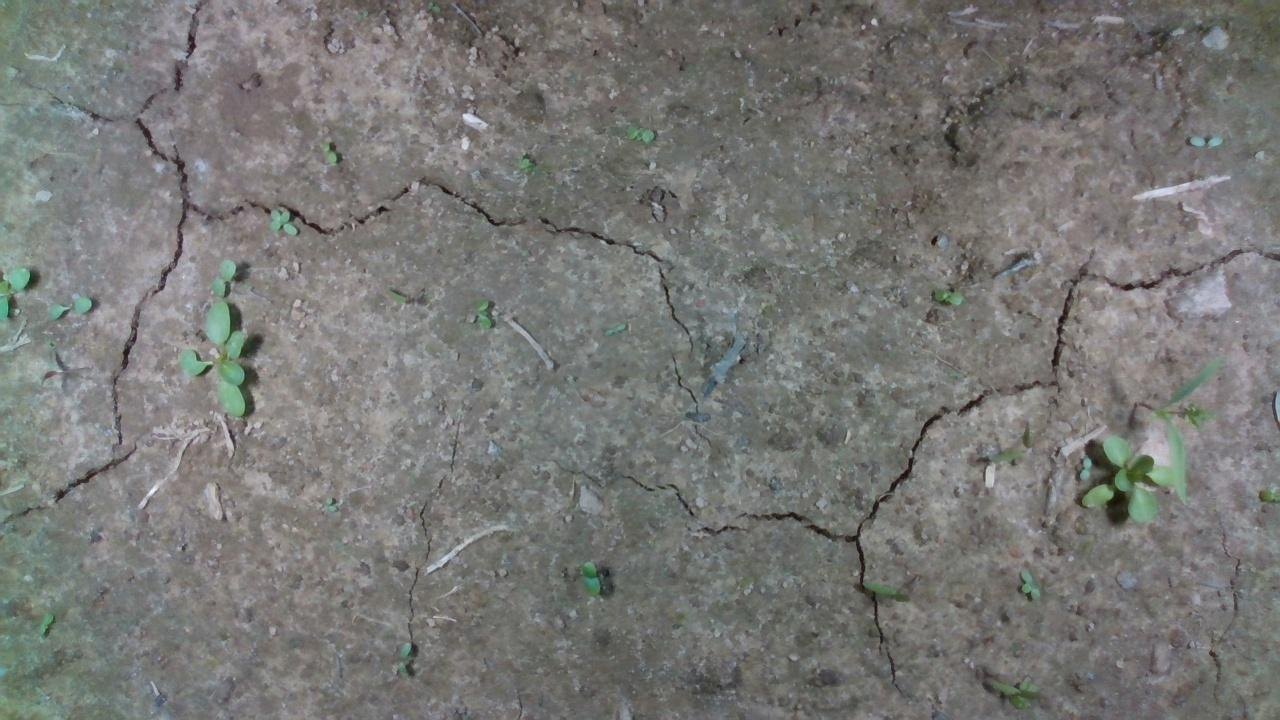weed: (259, 202, 302, 241), (573, 559, 610, 599), (42, 293, 95, 320), (1015, 562, 1045, 601), (210, 257, 237, 296), (467, 297, 498, 325), (932, 284, 964, 306), (631, 124, 662, 144), (316, 139, 338, 166)
